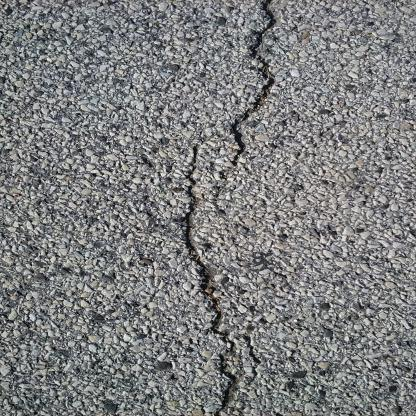Cracks: (162, 148, 258, 415), (219, 1, 293, 191)
